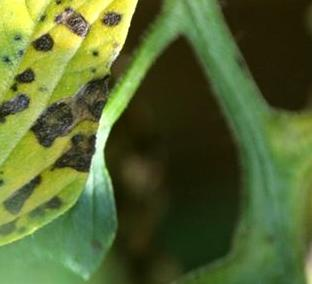Tomato Septoria leaf spot: (0, 0, 164, 248)
